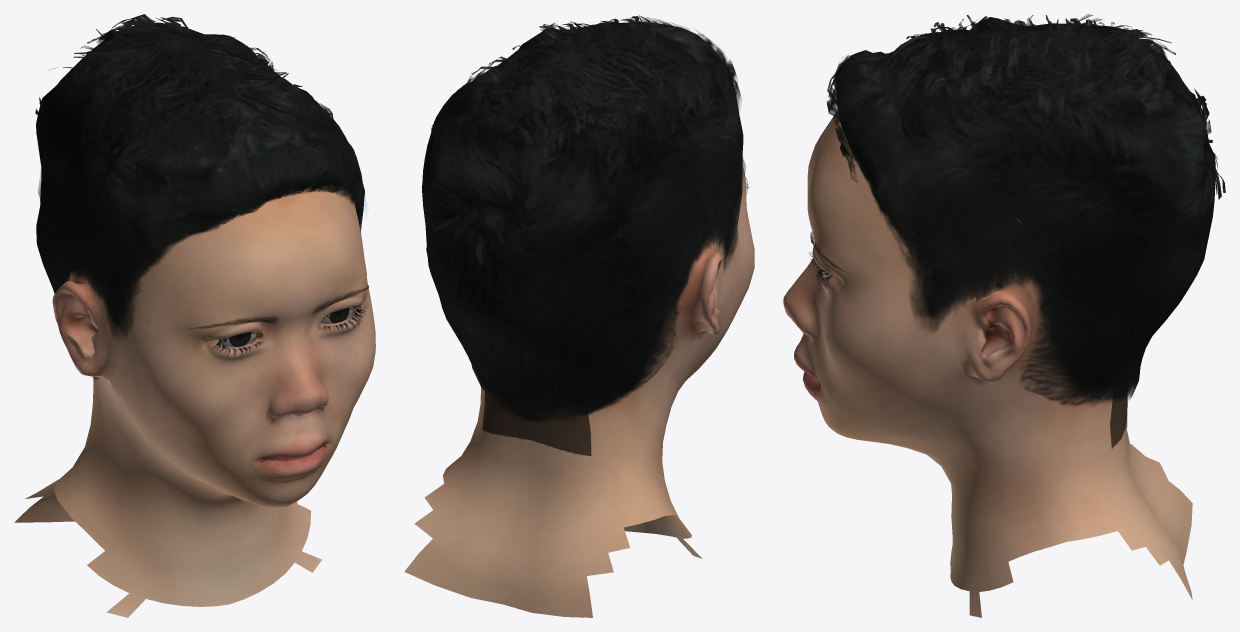
Rendered from patient10.glb.
3 renders of one model, left to right at view 1: azimuth 30°, elevation 25°; view 2: azimuth 150°, elevation 25°; view 3: azimuth 270°, elevation 25°, orthographic. The views are drawn at different scales.
Visible parts, largest first — view 1: jung_kkoma.body, jung_kkoma.short01, jung_kkoma.eyelashes01, jung_kkoma.eyebrow001, jung_kkoma.high-poly; view 2: jung_kkoma.short01, jung_kkoma.body; view 3: jung_kkoma.short01, jung_kkoma.body.
Part boxes in pixels (bbox=[...]): jung_kkoma.body: bbox=[14, 148, 375, 617]; jung_kkoma.short01: bbox=[35, 14, 365, 380]; jung_kkoma.eyelashes01: bbox=[211, 306, 367, 356]; jung_kkoma.eyebrow001: bbox=[189, 285, 368, 328]; jung_kkoma.high-poly: bbox=[219, 307, 353, 347]; jung_kkoma.short01: bbox=[422, 15, 745, 423]; jung_kkoma.body: bbox=[404, 166, 754, 617]; jung_kkoma.short01: bbox=[826, 14, 1225, 406]; jung_kkoma.body: bbox=[783, 113, 1192, 617].
Size of the model in its own units: 0.1496 by 0.2703 by 0.1986.
8 materials, 7 textured.
